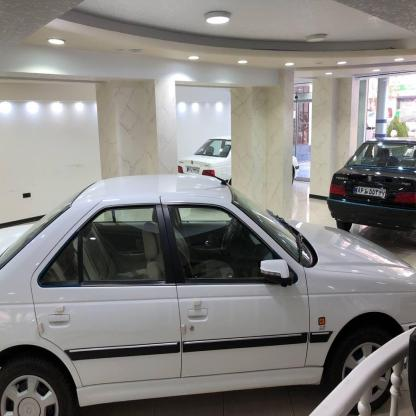Car: (0, 160, 416, 416), (329, 121, 416, 292), (174, 134, 237, 188)
